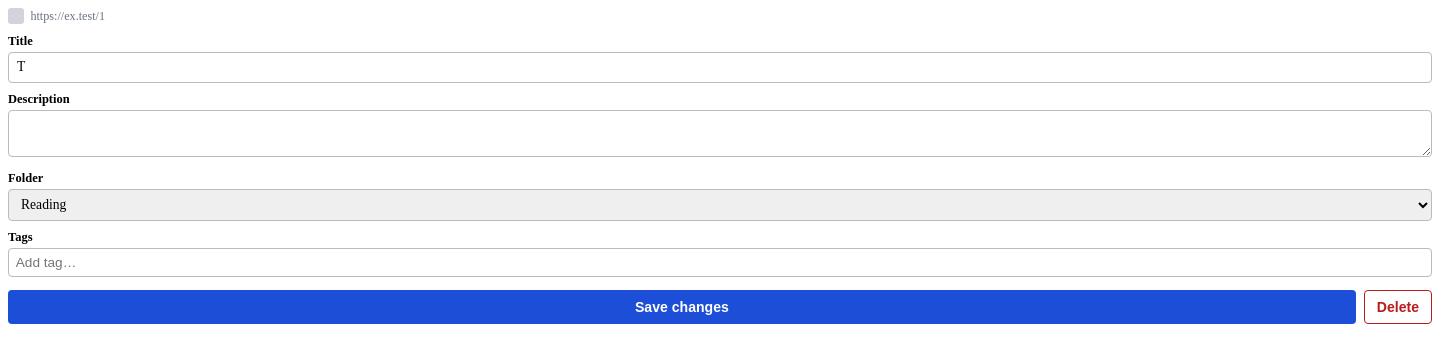
BookmarkForm — inline "new folder" › choosing "＋ New folder…" reveals the inline editor with parent context
Select "＋ New folder…" in the dropdown at (720,205), box 8,189 -> 1432,221
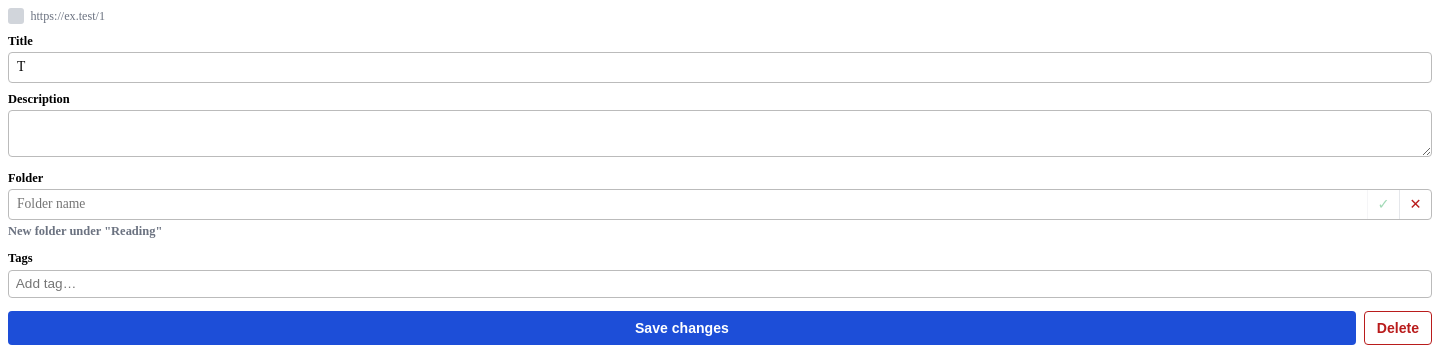
Expected: the element with class "folder-new" is shown, 8,189 -> 1432,220
Expected: the text with class "folder-new-context" shows "under \"Reading\"", 8,224 -> 162,238
